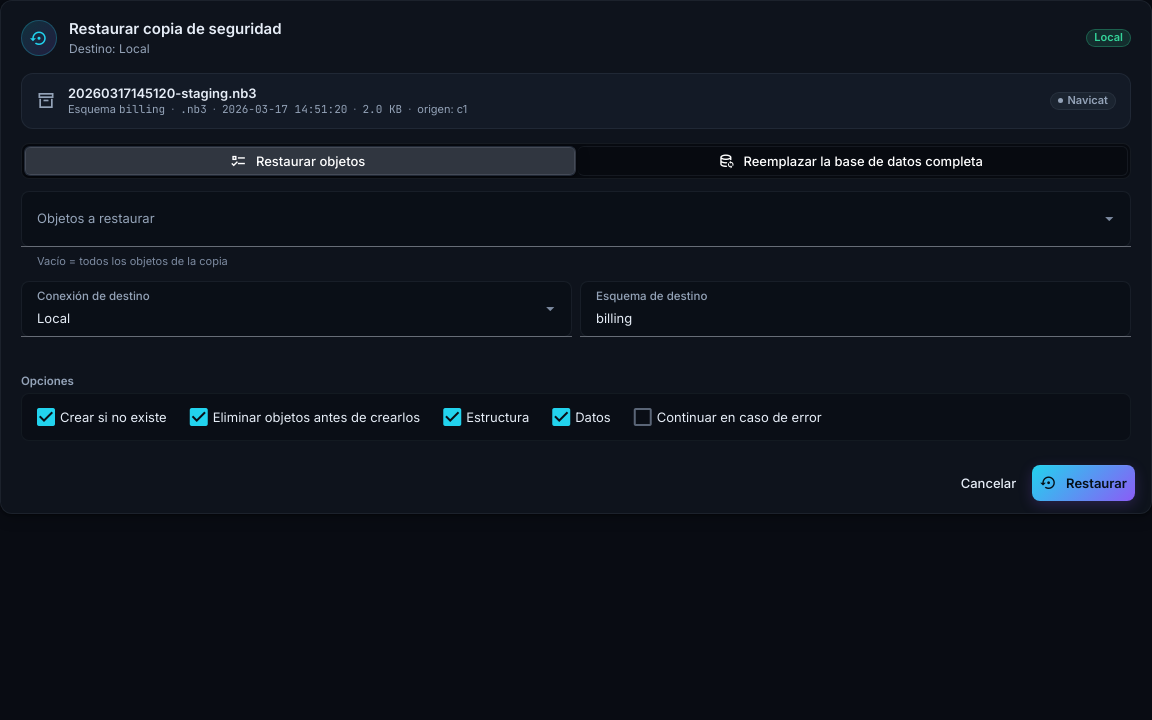
RestoreDialog › «Solo estructura» in replace mode is stated in the warning and the confirmation and sends includeData false
The width and height of the screenshot is (1152, 720).
Click the button with test id "restore-mode-replace" at [853, 161], box [578,146,1128,176]
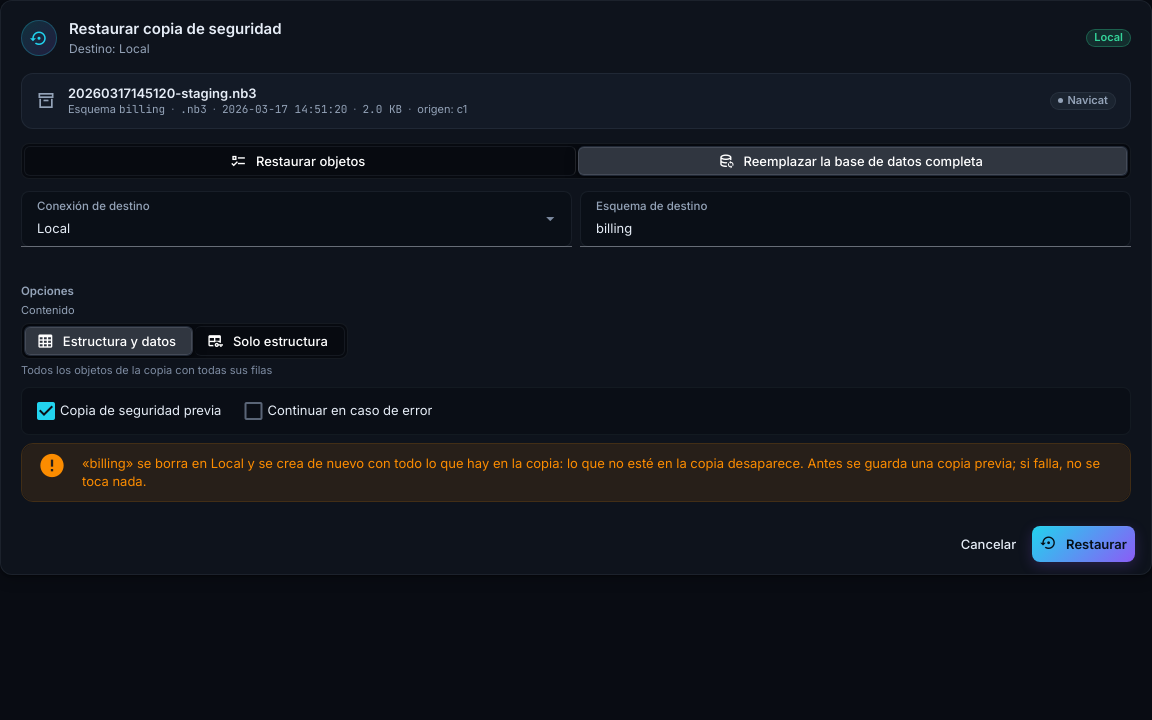
Click the button with test id "replace-content-structure" at [270, 341], box [195,326,345,356]
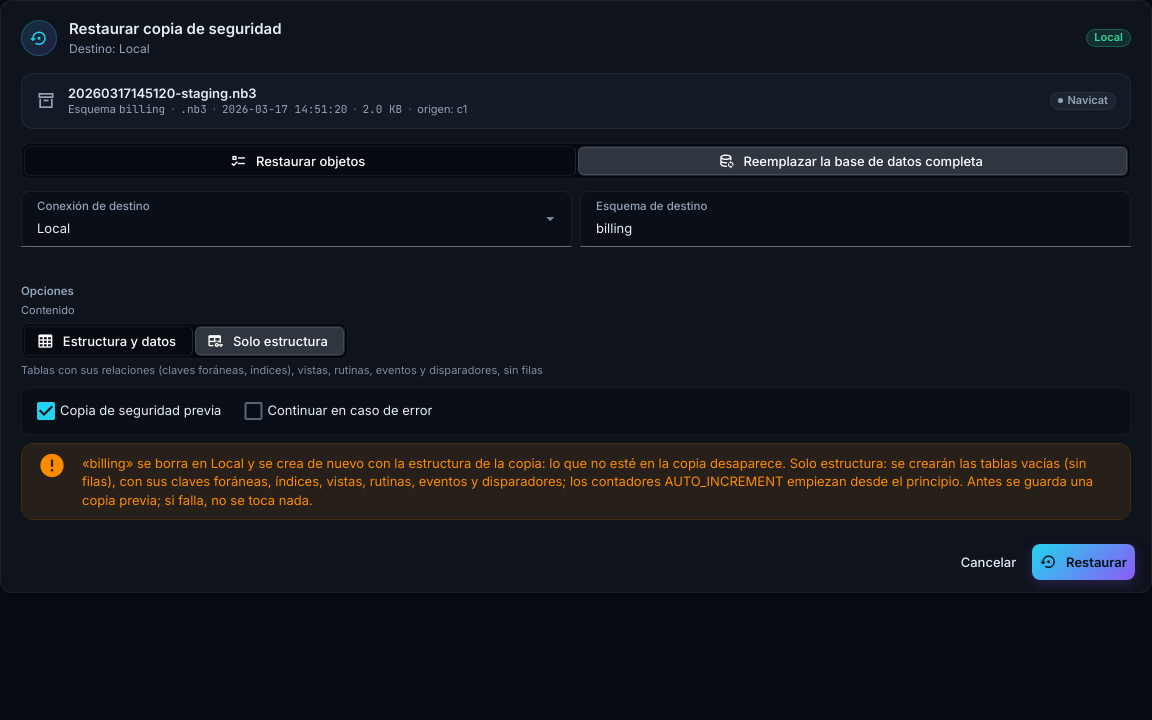
Now the text with test id "replace-content-hint" shows "Tablas con sus relaciones (claves foráneas, índices), vistas, rutinas, eventos y disparadores, sin filas", box [21,363,543,377]
Now the message with test id "restore-replace-warning" shows "se crearán las tablas vacías", box [82,454,1086,489]
Click the button with test id "restore-submit" at [1084, 562], box [1032,544,1135,580]
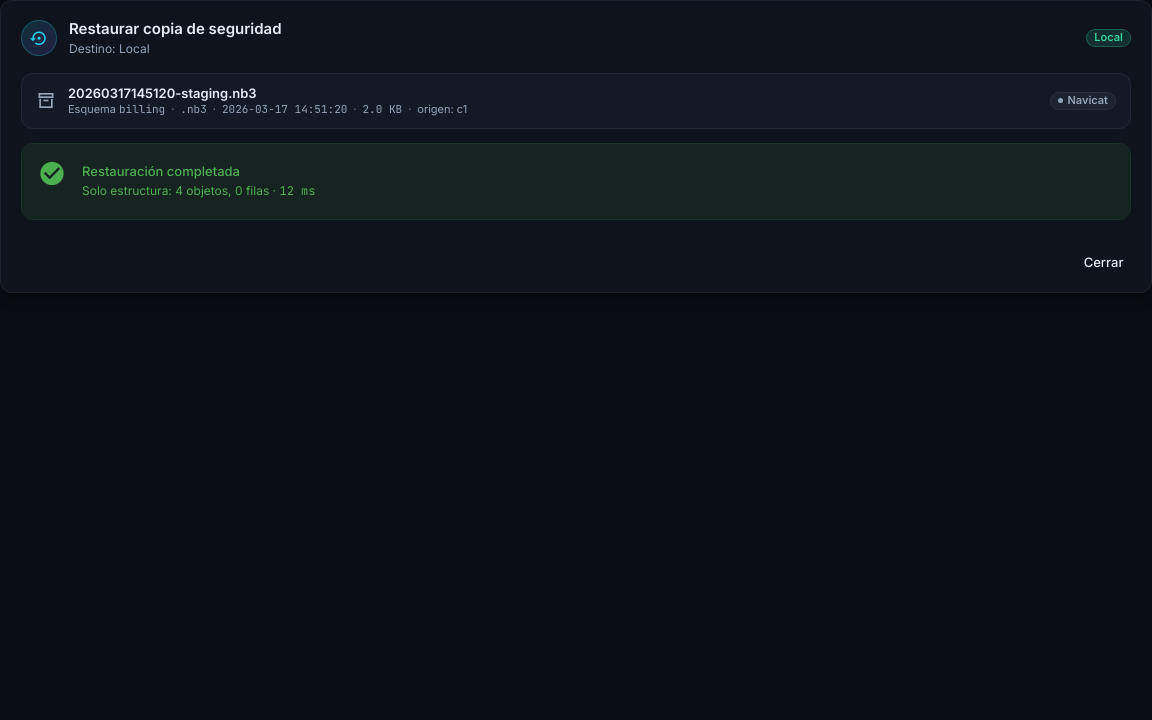
Now the element with test id "restore-result-mode" shows "Solo estructura: 4 objetos, 0 filas", box [82,183,279,198]
